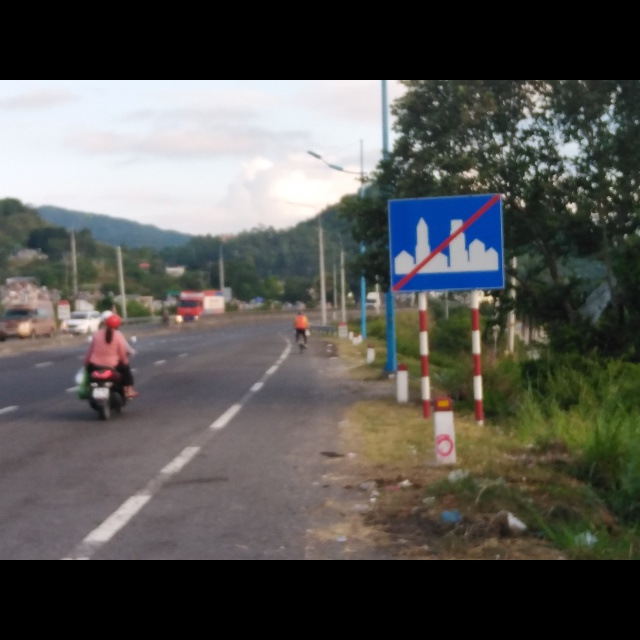Hết khu đông dân cư: (388, 192, 504, 293)
